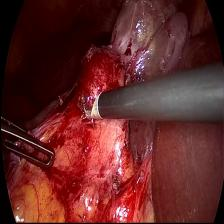Grasper: (0, 115, 58, 185)
Hook: (82, 92, 110, 138)
